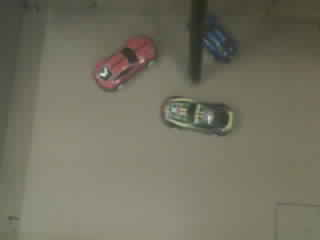Car: (94, 37, 155, 89), (161, 96, 233, 135), (203, 17, 236, 62)
